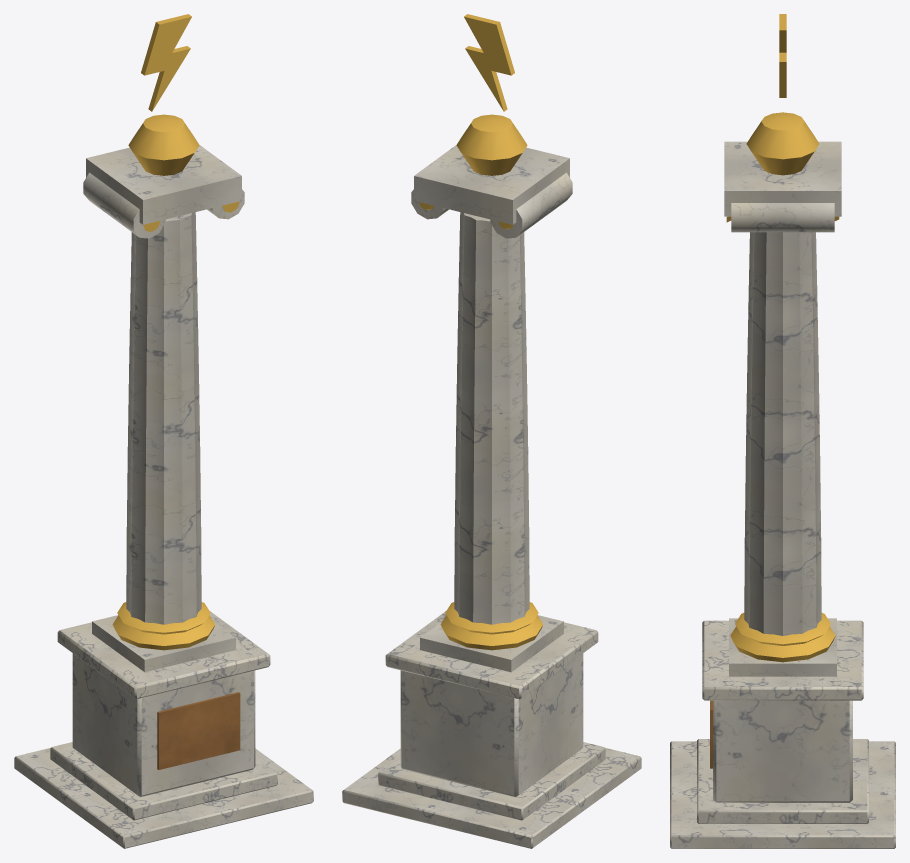
The model's file is decor_victory-column.glb.
The picture shows the model from 3 angles, left to right: view 1: azimuth 30°, elevation 25°; view 2: azimuth 150°, elevation 25°; view 3: azimuth 270°, elevation 25°; orthographic projection. The views are drawn at different scales.
Parts seen in each view (by area): view 1: marble, step, gold, bronze; view 2: marble, step, gold; view 3: marble, step, gold.
Boxes of the visible parts, left/top/right/bottom form: marble: left=72, top=145, right=255, bottom=797; step: left=14, top=611, right=313, bottom=848; gold: left=112, top=14, right=239, bottom=650; bronze: left=157, top=692, right=240, bottom=769; marble: left=400, top=145, right=583, bottom=797; step: left=342, top=611, right=641, bottom=848; gold: left=419, top=14, right=543, bottom=650; marble: left=713, top=141, right=852, bottom=802; step: left=670, top=620, right=895, bottom=848; gold: left=726, top=14, right=839, bottom=662.
Size of the model in its own units: 2.1 by 8.05 by 2.1.
4 materials, 3 textured.
